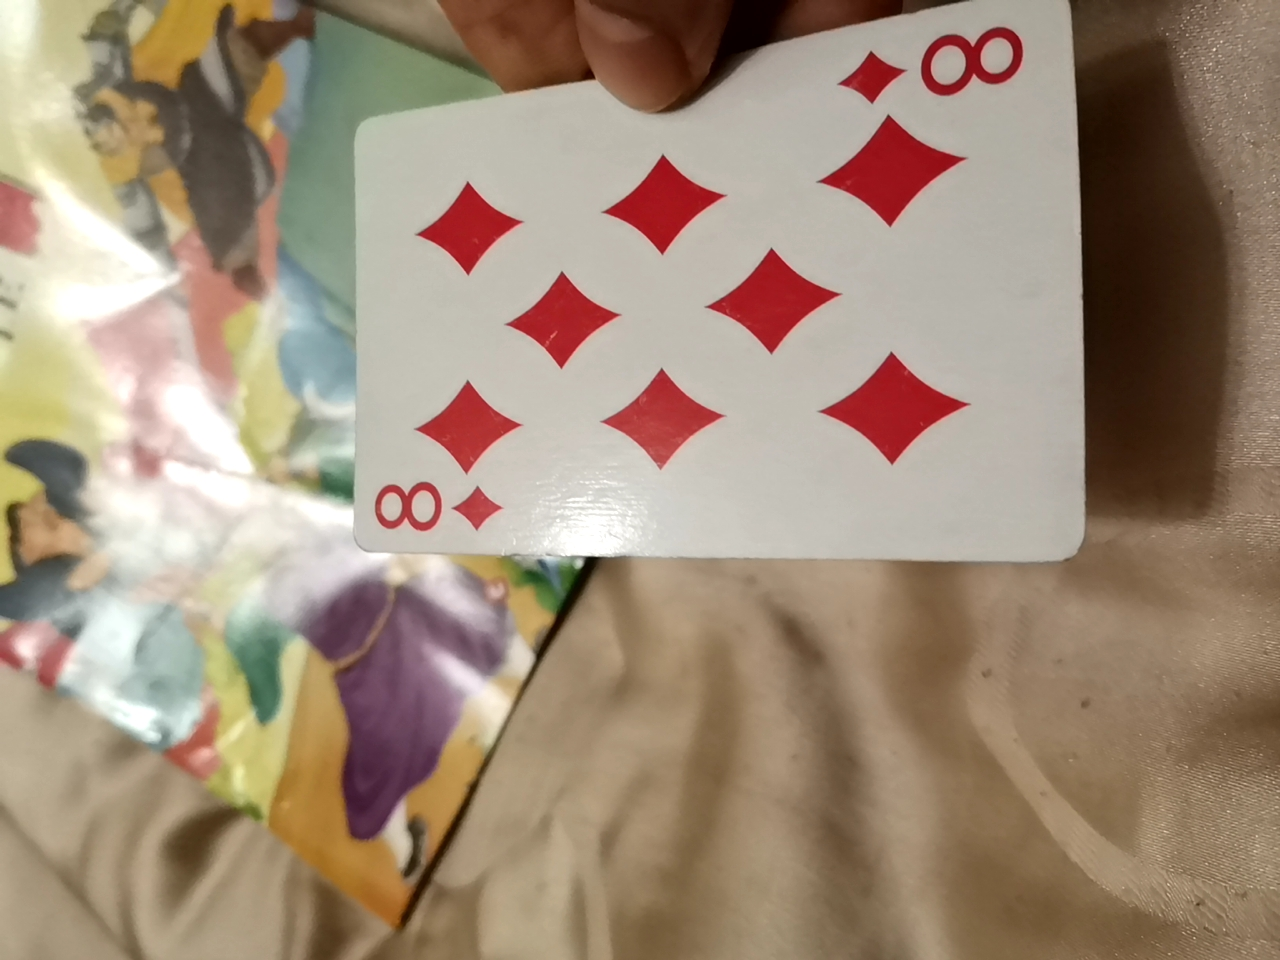fk 8: (343, 10, 1089, 575)
